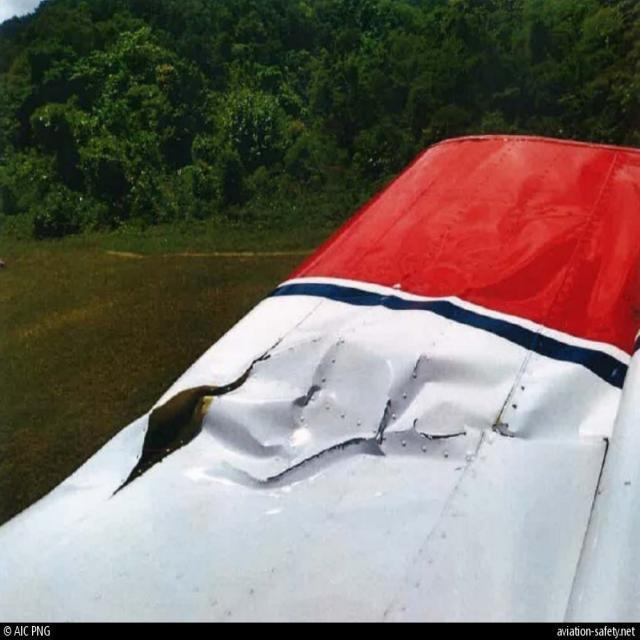crack: (112, 352, 268, 497), (268, 439, 374, 474), (404, 416, 466, 446), (241, 343, 280, 376), (404, 353, 430, 385)
dent: (202, 307, 530, 482), (384, 136, 621, 302), (494, 360, 618, 446)
